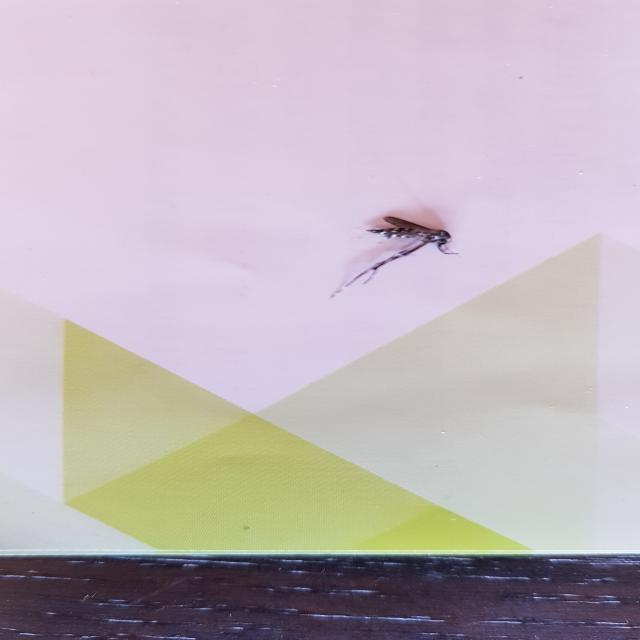albopictus: (326, 210, 465, 298)
